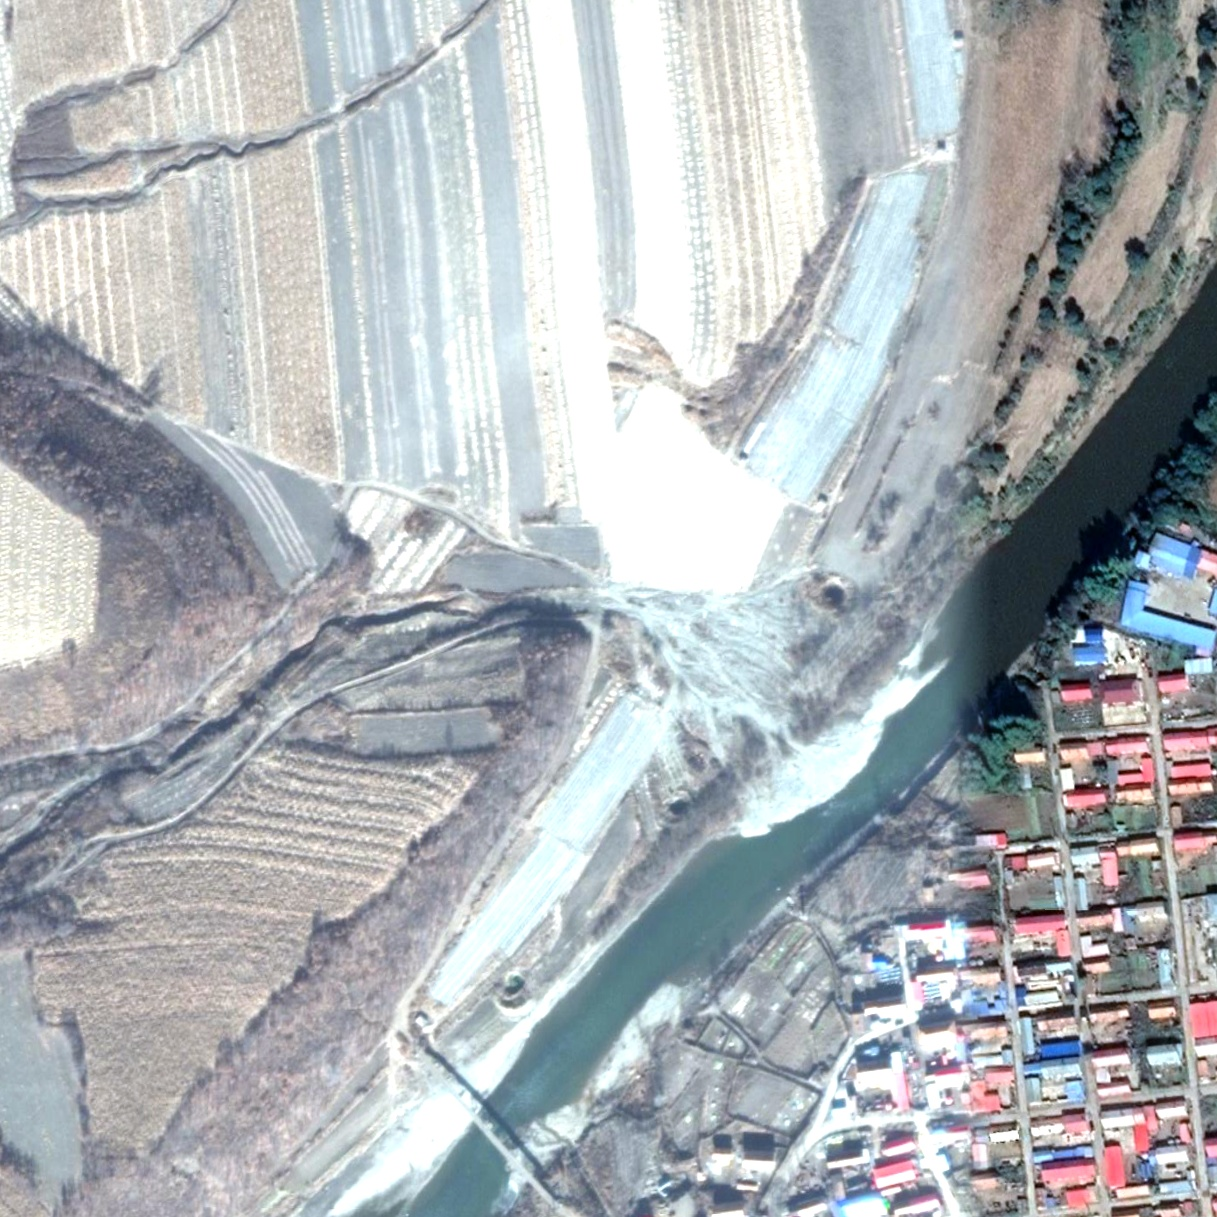slope: (608, 568, 945, 836)
